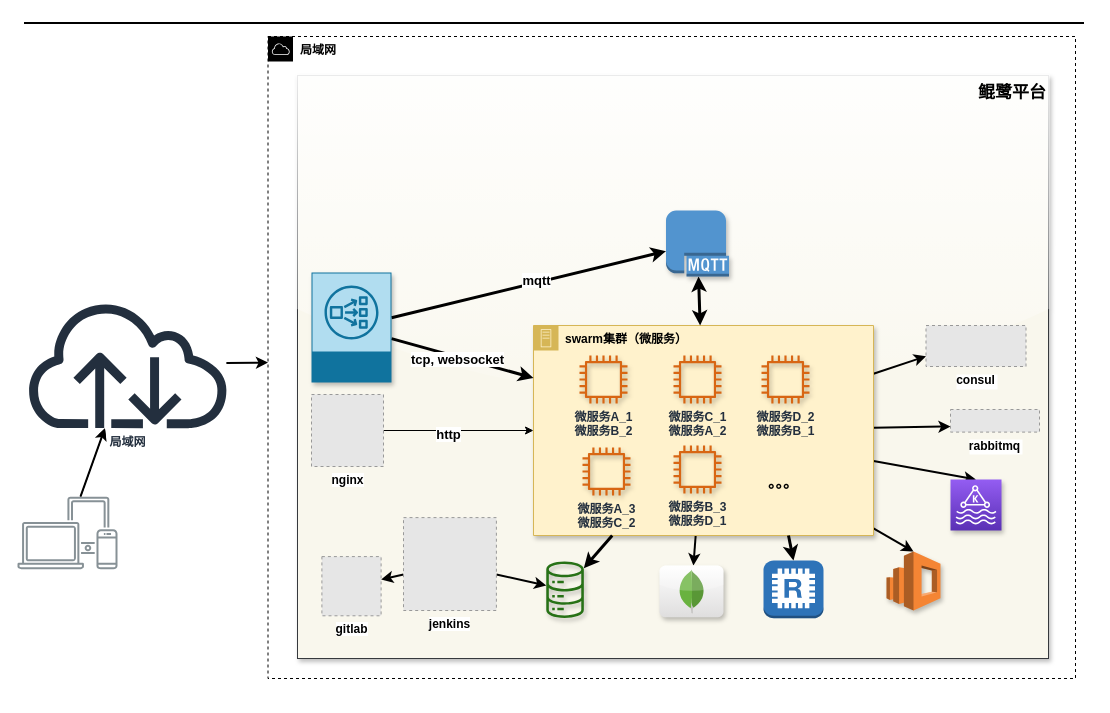
Some shapes in this 1110 by 713 pixel diagram are drawn without their labels. Grey dashed boxes stand in for pictures. Each missing label, with the centre of its shape:
"elk" goes at (x=914, y=582).
"kafka" goes at (x=977, y=506).
"PC，APP，设备" goes at (x=67, y=532).
"自建mongodb" goes at (x=692, y=592).
"自建redis" goes at (x=793, y=589).
"自建镜像仓库" goes at (x=565, y=590).
"负载均衡" goes at (x=352, y=329).
